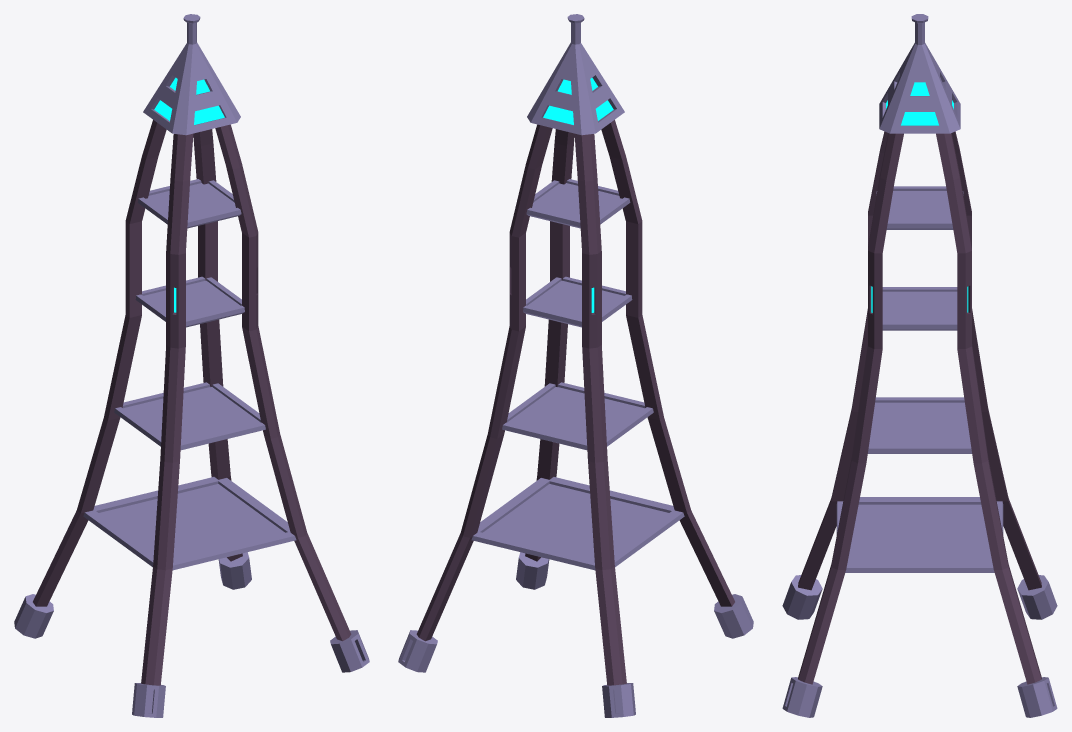
File: TOWER.fbx
3 views of the same model, side by side, from view 1: azimuth 30°, elevation 25°; view 2: azimuth 150°, elevation 25°; view 3: azimuth 270°, elevation 25° (orthographic). The views are drawn at different scales.
Parts seen in each view (by area): view 1: Cube, Cube.006, Cube.005, Cylinder, Cube.011; view 2: Cube, Cube.006, Cube.005, Cylinder, Cube.011; view 3: Cube, Cube.006, Cube.005, Cylinder, Cube.011.
Boxes of the visible parts, x1,y1,x2,y2 form: Cube: (33,120,351,685); Cube.006: (83,179,296,570); Cube.005: (143,14,240,135); Cylinder: (14,552,369,717); Cube.011: (154,77,224,312); Cube: (416,120,734,685); Cube.006: (471,179,684,570); Cube.005: (527,14,624,135); Cylinder: (398,552,753,717); Cube.011: (543,77,613,312); Cube: (798,131,1041,684); Cube.006: (836,186,1003,572); Cube.005: (879,14,960,133); Cylinder: (782,575,1057,717); Cube.011: (871,82,968,312).
Bounding box in the file's own units: 683 × 1764 × 678.
